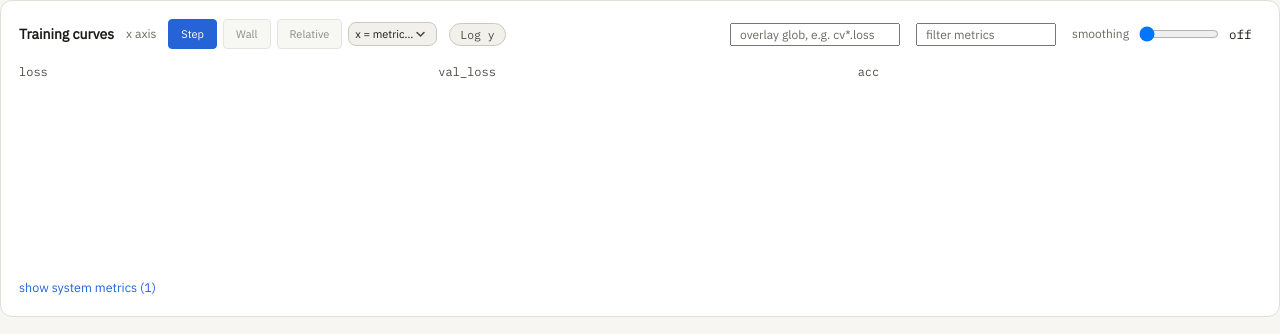
TrainingCurves small multiples › says when the search matches nothing
Type "zzz" into the search field with placeholder "filter metrics" at [986, 34], box x1=916 y1=22 x2=1056 y2=46
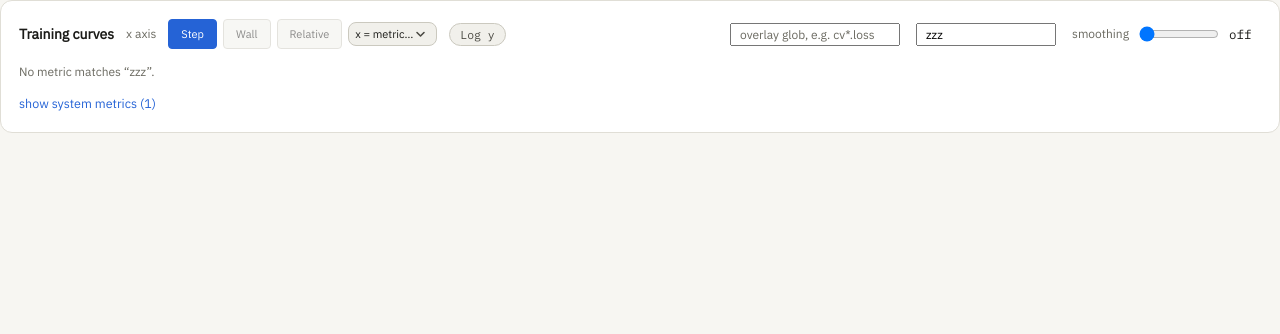
Check: no elements with test id "metric-chart" are shown
Check: the text "No metric matches “zzz”." is shown, box x1=19 y1=64 x2=154 y2=79
